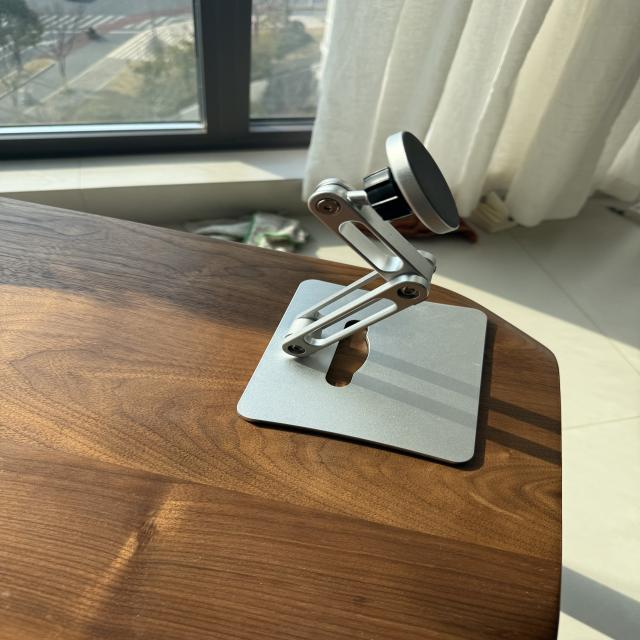phone holder: (230, 124, 510, 478)
